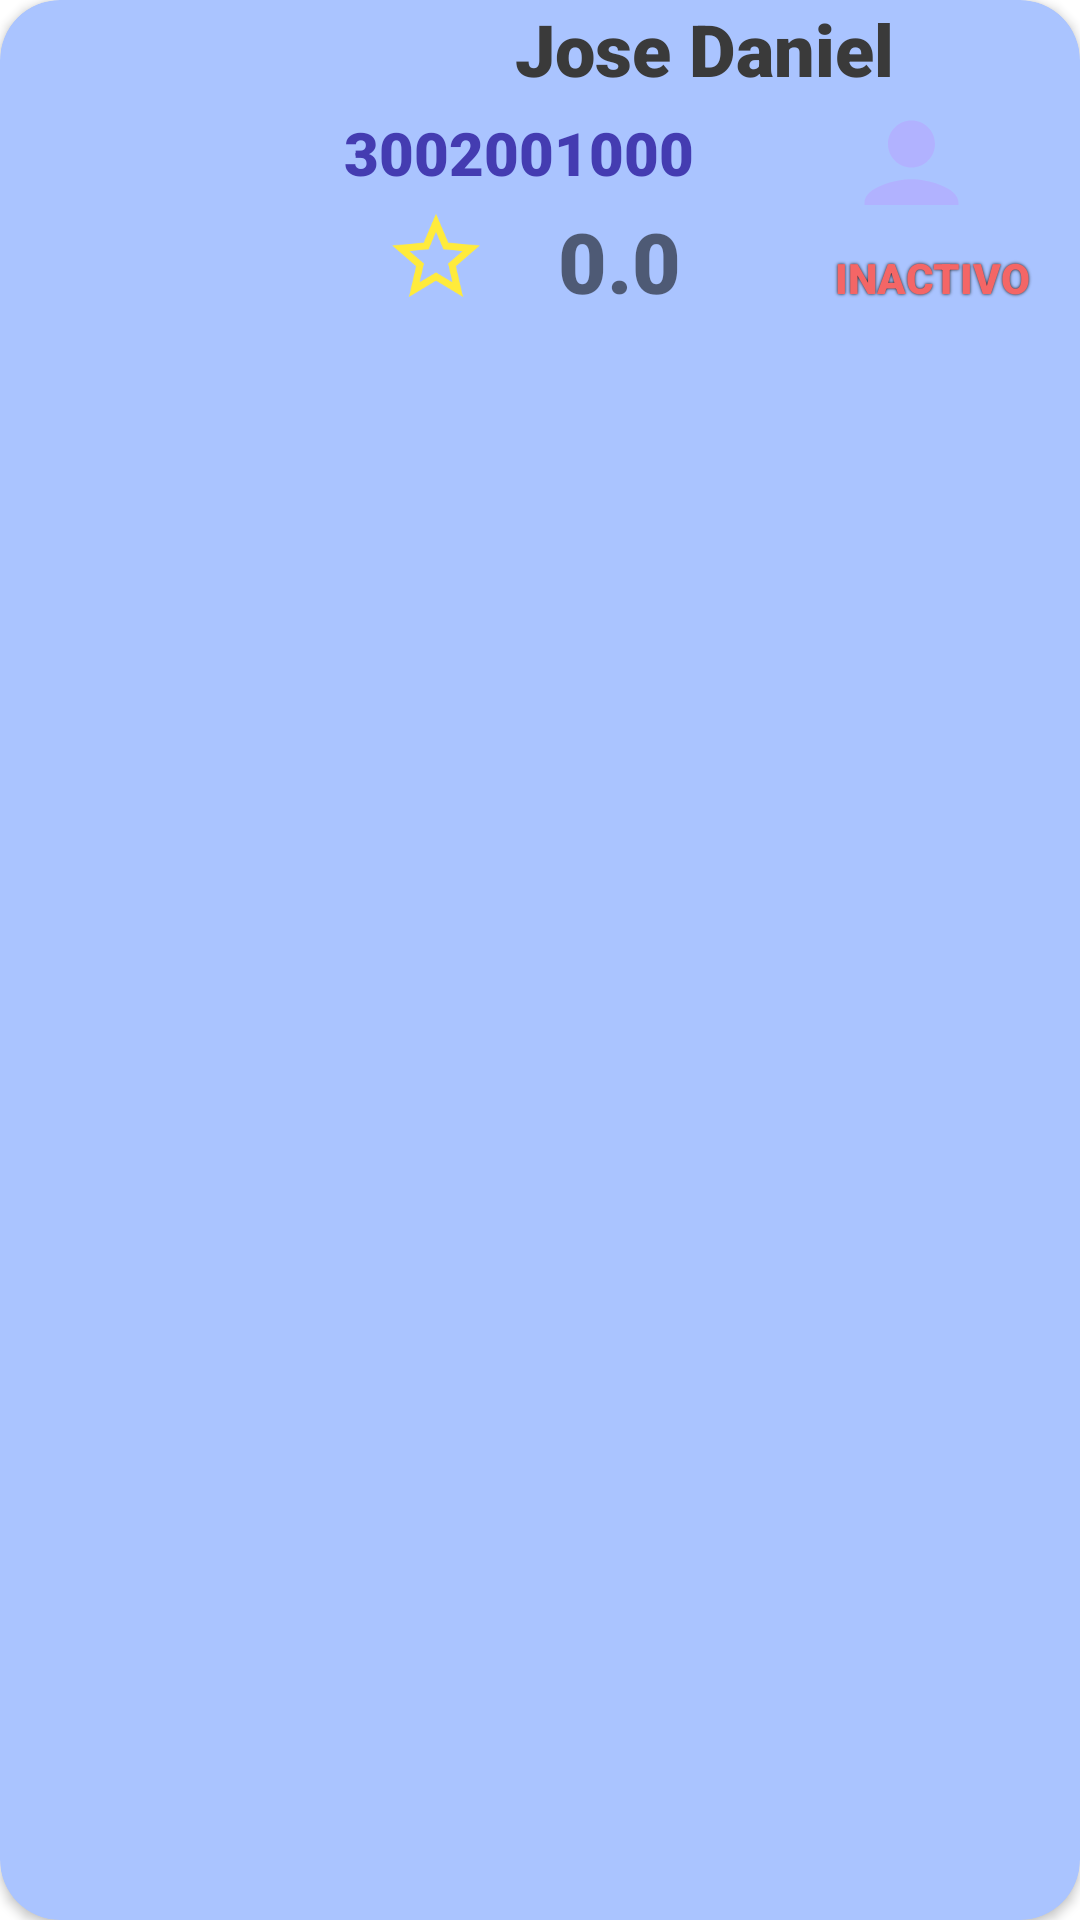

Point at icon controls on the screen. Image size 1080w x 1920h, points as (x,y).
star border: (436,255)
